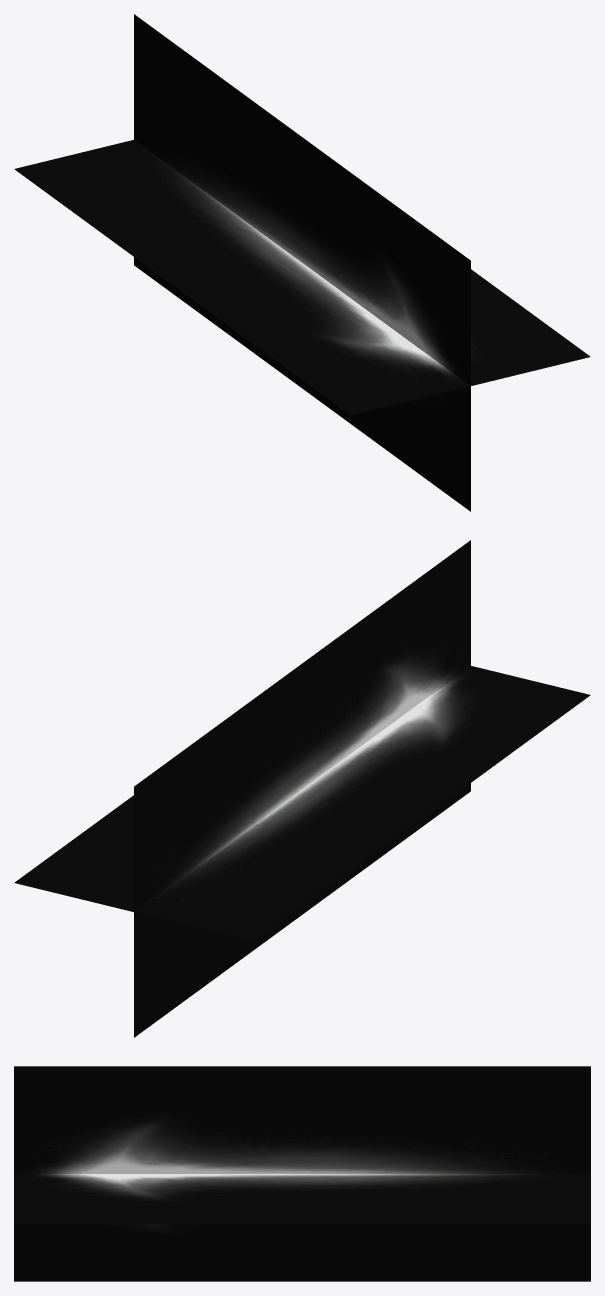
3 renders of one model, top to bottom at view 1: azimuth 30°, elevation 25°; view 2: azimuth 150°, elevation 25°; view 3: azimuth 270°, elevation 25°, orthographic. The views are drawn at different scales.
Parts seen in each view (by area): view 1: ci2; view 2: ci2; view 3: ci2.
Boxes of the visible parts, x1,y1,x2,y2 form: ci2: (14, 14, 590, 511); ci2: (14, 540, 590, 1037); ci2: (14, 1066, 590, 1281).
Size of the model in its own units: 2.1 by 2.1 by 5.1.
1 material, 1 textured.
